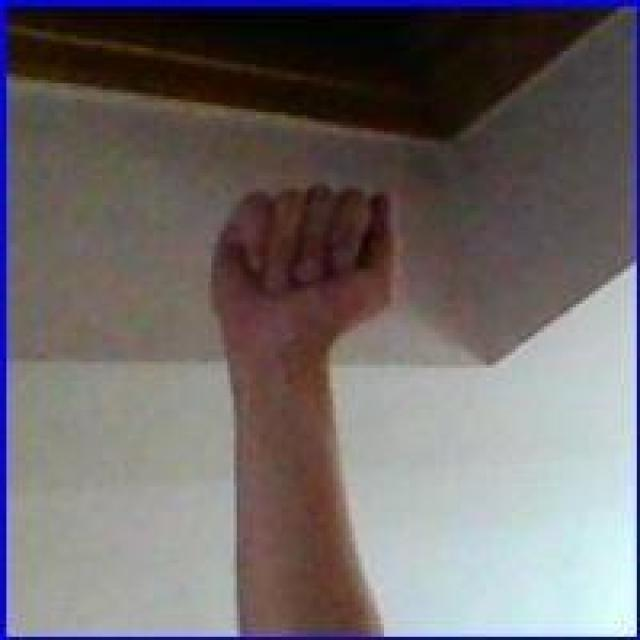A: (210, 178, 404, 356)
